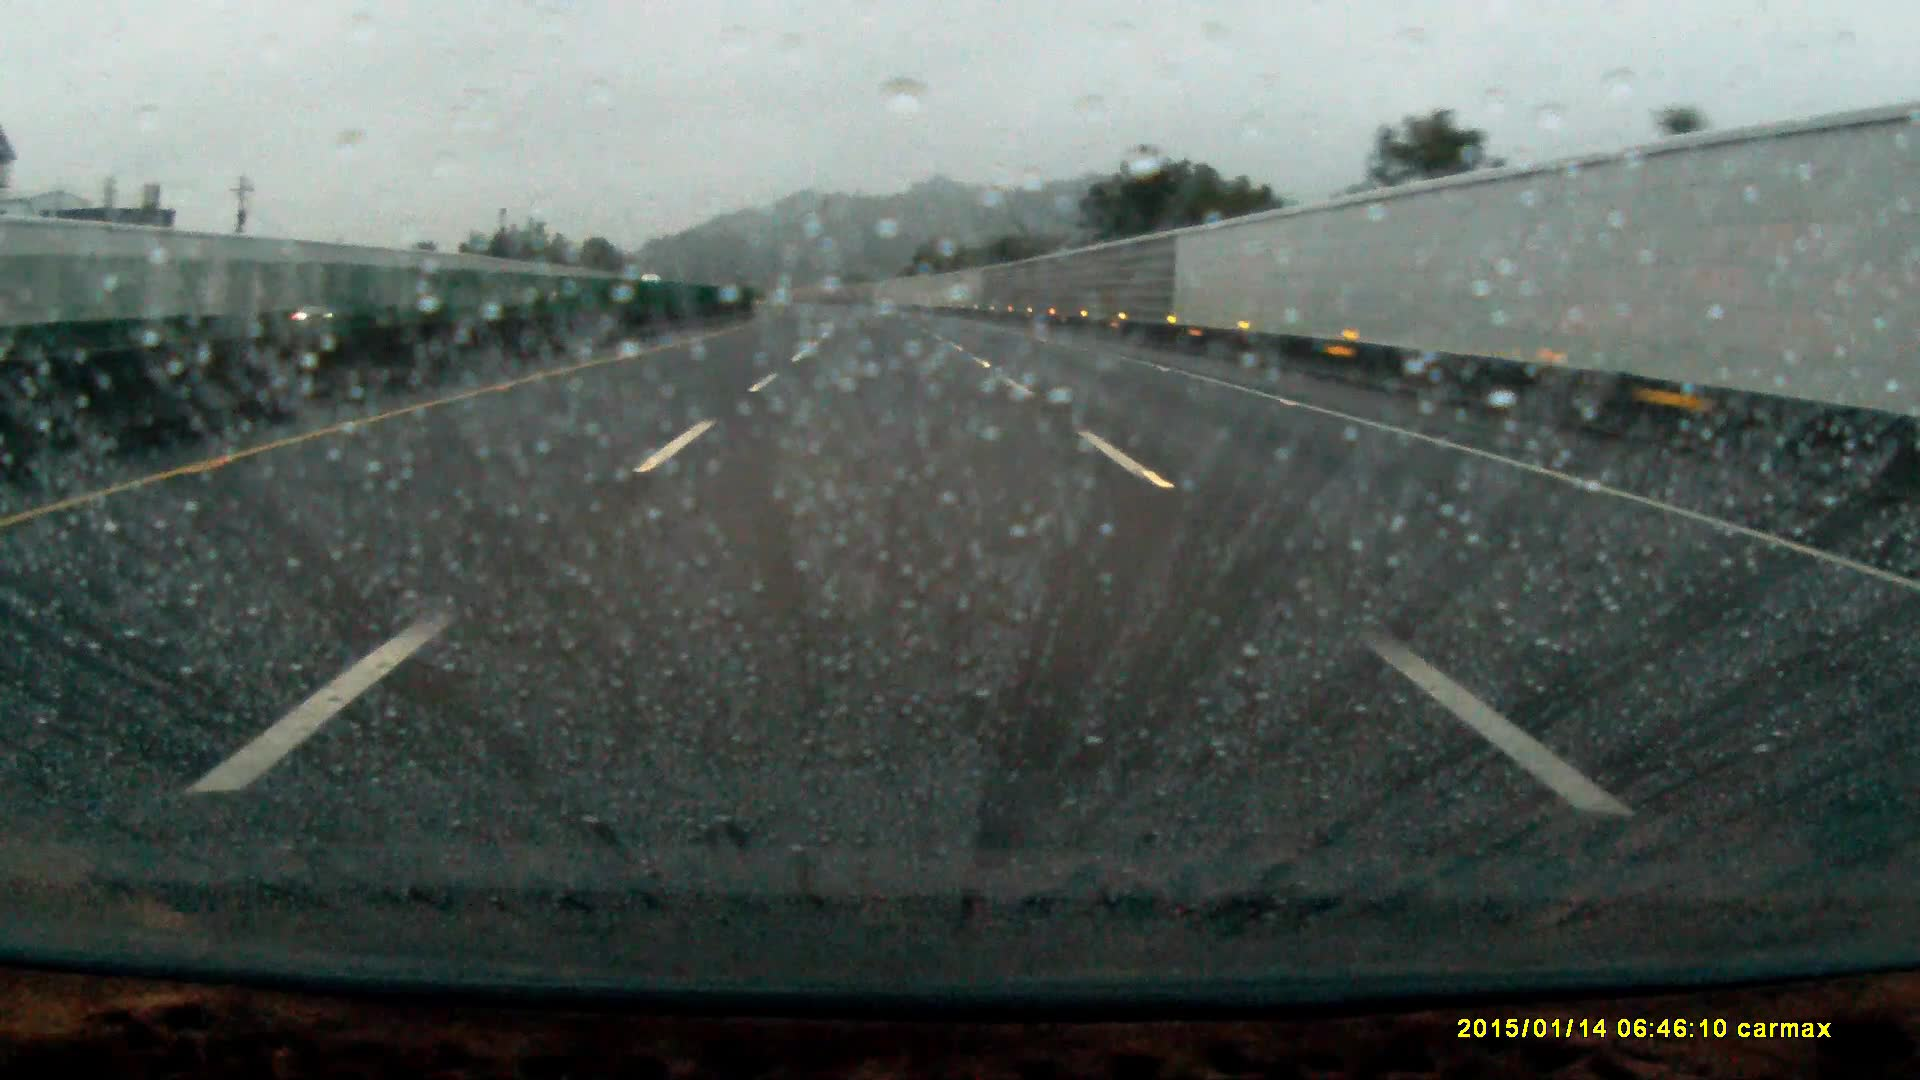vehicle: (282, 293, 356, 328)
